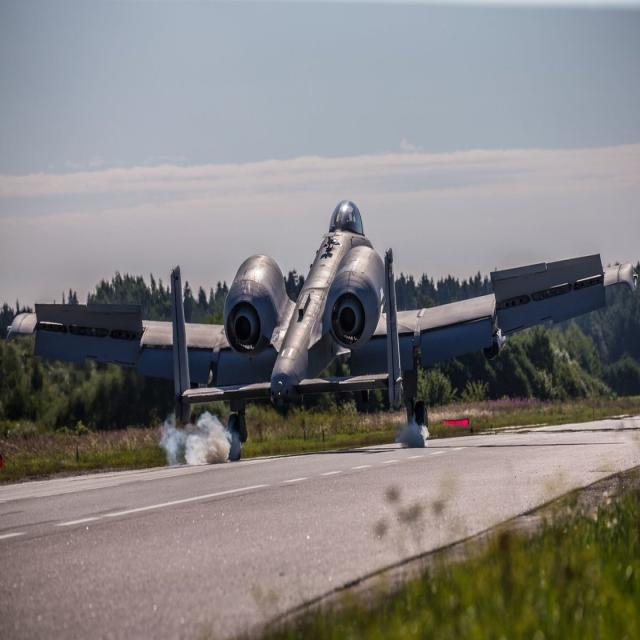MIL_Plane: (4, 199, 638, 462)
